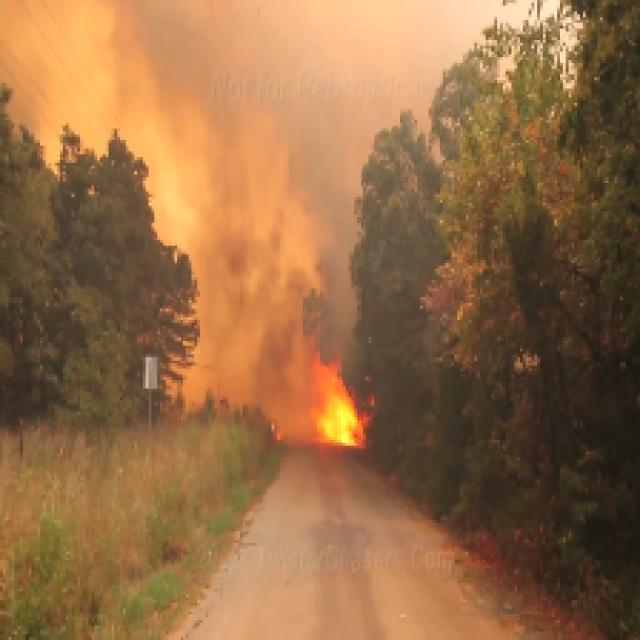Fire: (288, 351, 418, 466)
Smoke: (166, 57, 351, 266)
